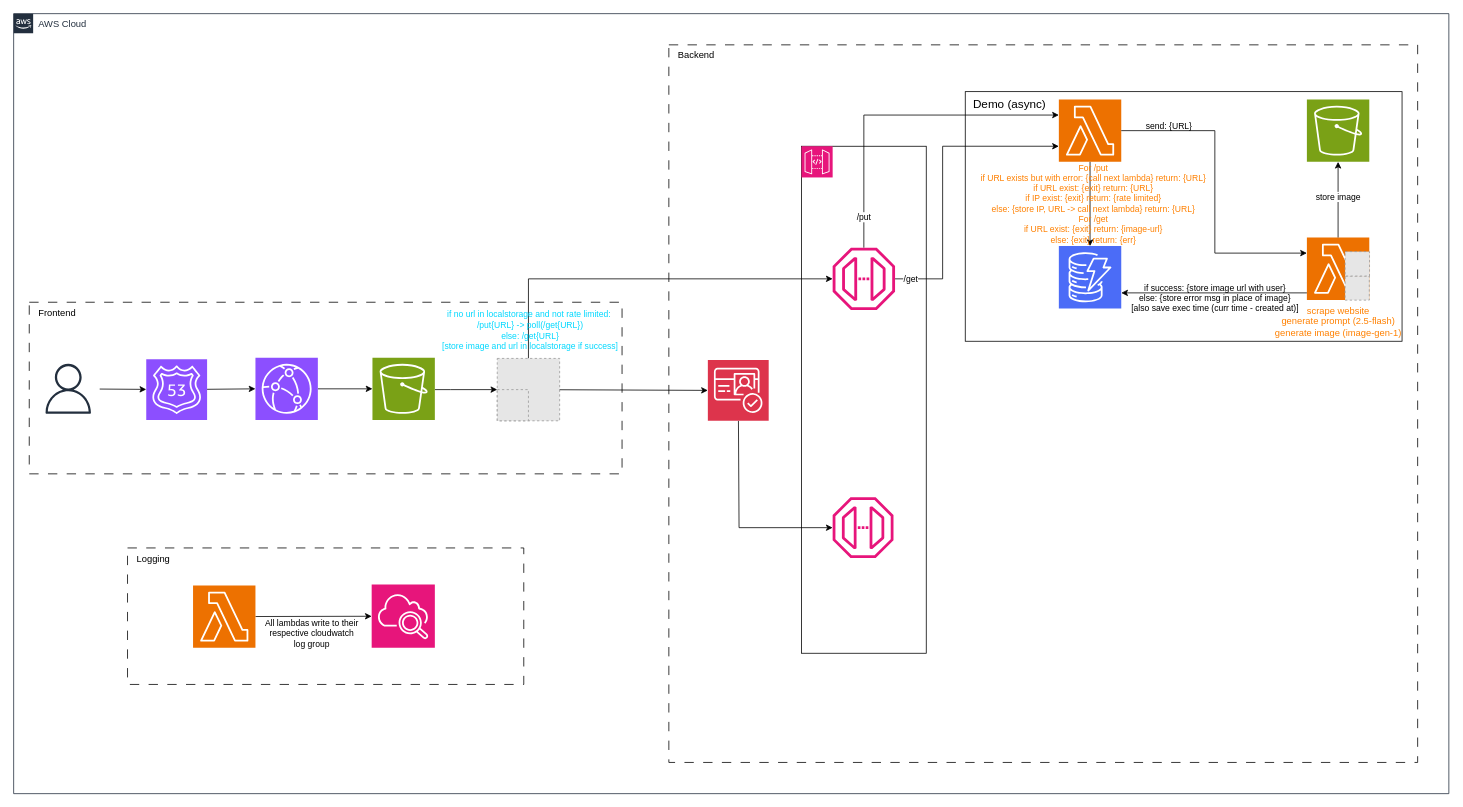
Some shapes in this 1463 by 807 pixel diagram are drawn without their labels. Grey dashed boxes stand in for pictures. Each missing label, with the centre of its shape:
"/demo" belongs at point (863, 278).
"store pre-signed image URLs" belongs at point (1089, 276).
"User" belongs at point (67, 388).
